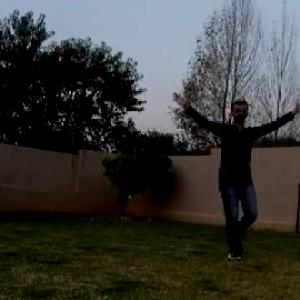takeoff: (171, 90, 299, 258)
